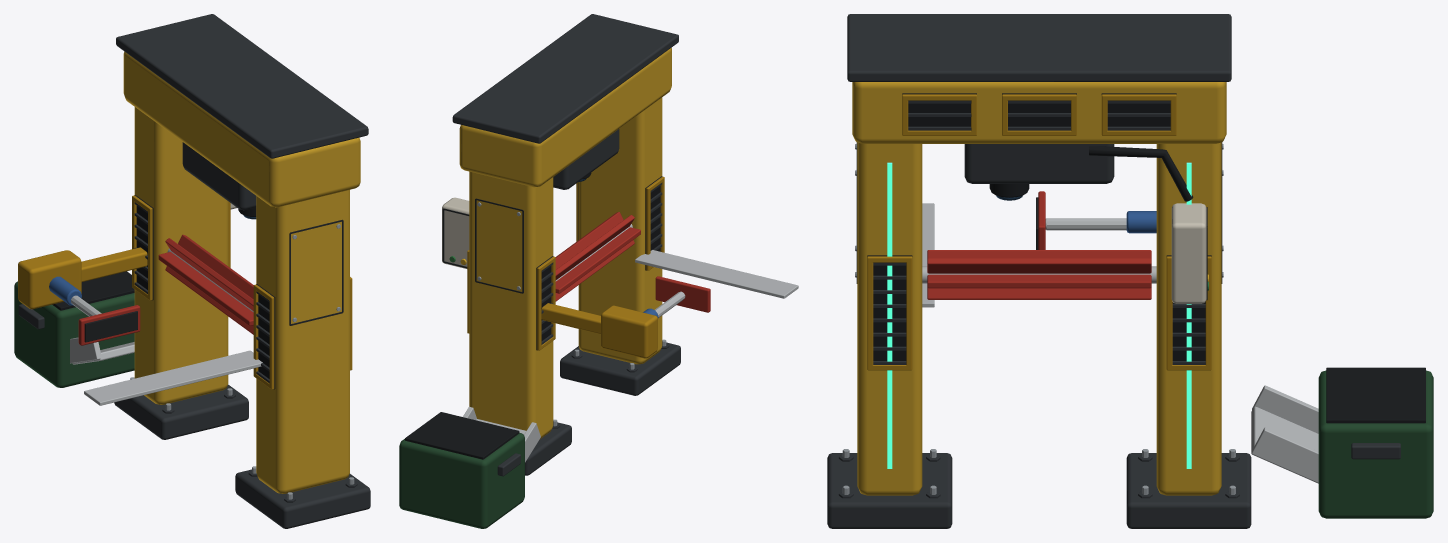
Rendered from lc_sorter.glb.
The picture shows the model from 3 angles, left to right: view 1: azimuth 30°, elevation 25°; view 2: azimuth 150°, elevation 25°; view 3: azimuth 270°, elevation 25°; orthographic projection. The views are drawn at different scales.
Visible parts, largest first — view 1: block.034, block.066, block.002, block.065, block.105, block.033, block.001, block.097, block.098, block.091, block.094, block.092 (+13 smaller); view 2: block.002, block.066, block.034, block.065, block.105, block.033, block.106, block.097, block.098, block.109, block.091, block.094 (+7 smaller); view 3: block.066, block.034, block.002, block.065, block.105, block.001, block.033, block.091, block.106, block.093, block.109, block.094 (+19 smaller).
Part boxes in pixels (box(x1,y1,x2,y2)): block.034: box(256, 190, 349, 493); block.066: box(116, 14, 368, 158); block.002: box(134, 107, 228, 404); block.065: box(123, 51, 360, 207); block.105: box(14, 281, 134, 387); block.033: box(235, 469, 370, 528); block.001: box(114, 384, 248, 439); block.097: box(84, 350, 262, 405); block.098: box(18, 250, 81, 309); block.091: box(182, 142, 256, 210); block.094: box(165, 234, 253, 334); block.092: box(158, 252, 253, 325); block.002: box(469, 171, 553, 439); block.066: box(452, 14, 678, 143); block.034: box(578, 97, 662, 364); block.065: box(459, 48, 671, 187); block.105: box(399, 432, 524, 528); block.033: box(560, 342, 680, 395); block.106: box(405, 412, 519, 459); block.097: box(635, 250, 798, 298); block.098: box(601, 305, 657, 358); block.109: box(442, 197, 469, 268); block.091: box(553, 129, 619, 189); block.094: box(555, 212, 634, 301); block.066: box(847, 14, 1231, 81); block.034: box(857, 142, 922, 495); block.002: box(1156, 142, 1221, 495); block.065: box(852, 82, 1226, 143); block.105: box(1318, 370, 1433, 518); block.001: box(1126, 453, 1251, 528); block.033: box(827, 453, 952, 528); block.091: box(964, 144, 1114, 183); block.106: box(1326, 367, 1425, 423); block.093: box(927, 250, 1151, 299); block.109: box(1171, 203, 1206, 303); block.094: box(927, 258, 1151, 273).
Size of the model in its own units: 1.55 by 2.05 by 2.43.
